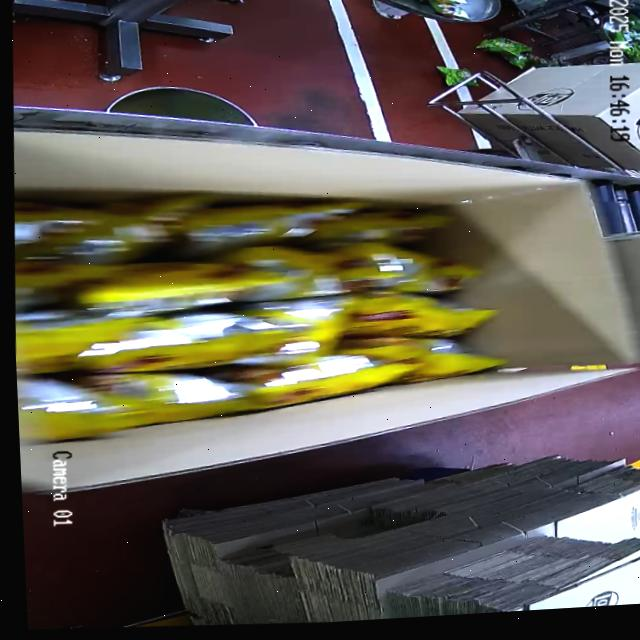SALTED: (9, 165, 494, 462)
